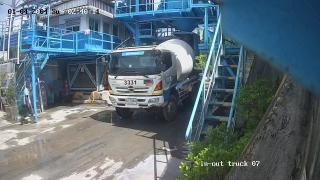cement_mixer_truck: (102, 39, 202, 121)
